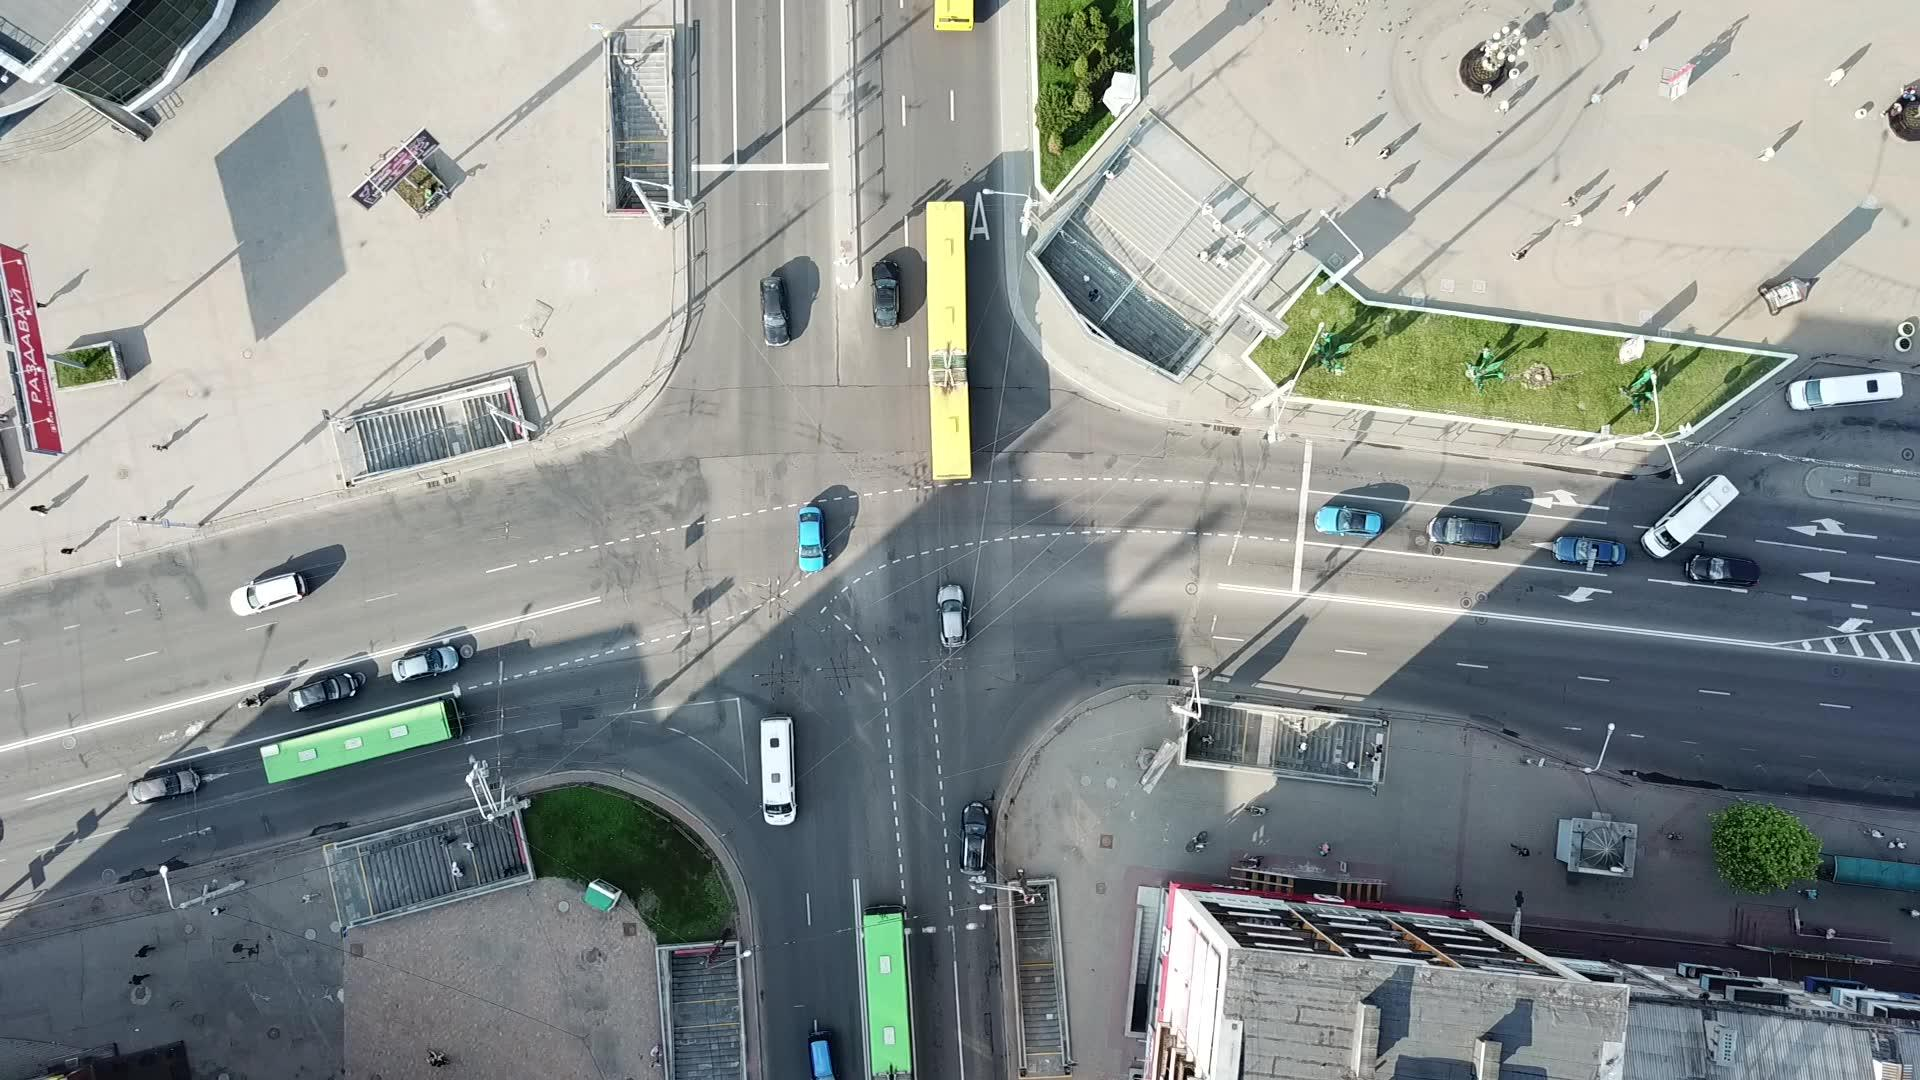car: (230, 571, 306, 617), (285, 673, 358, 713), (1683, 553, 1760, 588), (127, 766, 200, 802), (390, 646, 461, 683), (1427, 514, 1504, 547), (1312, 504, 1383, 539), (758, 275, 792, 347), (936, 583, 969, 648), (1553, 536, 1624, 566), (871, 258, 900, 329), (796, 505, 825, 572), (962, 801, 986, 875)
